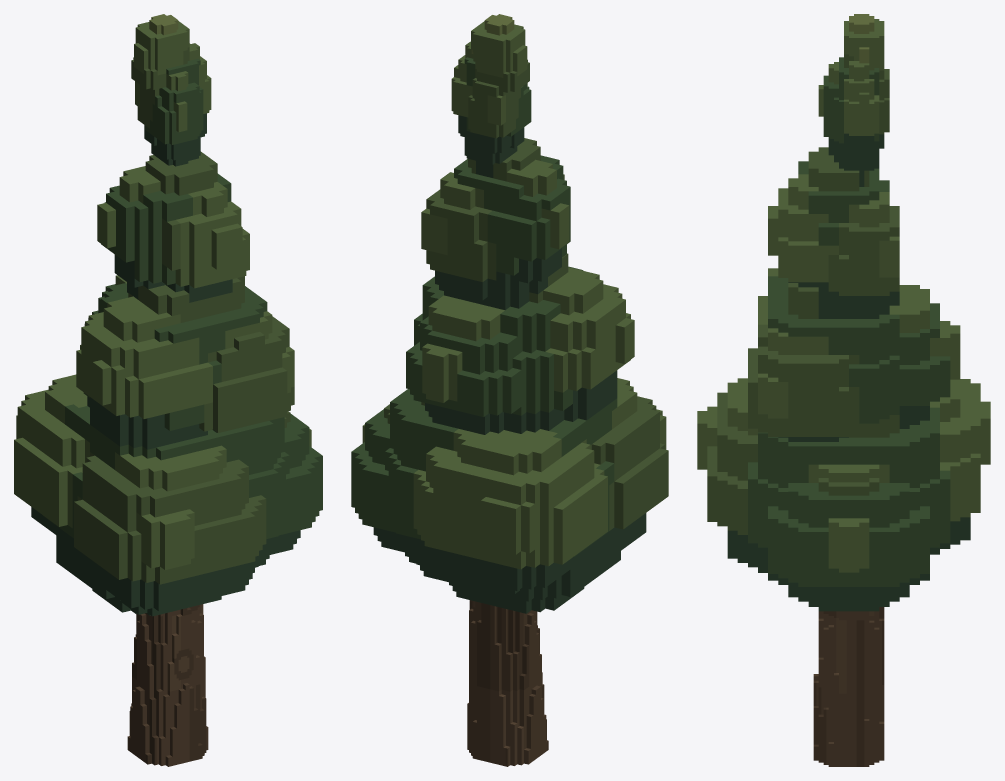
Rendered from pine_mature.glb.
3 renders of one model, left to right at view 1: azimuth 30°, elevation 25°; view 2: azimuth 150°, elevation 25°; view 3: azimuth 270°, elevation 25°, orthographic.
Visible parts, largest first — view 1: VoxelVisual; view 2: VoxelVisual; view 3: VoxelVisual.
Boxes of the visible parts, <box> form: VoxelVisual: <box>14,14,322,766</box>; VoxelVisual: <box>351,14,668,766</box>; VoxelVisual: <box>697,14,990,766</box>.
Size of what is drawn, in the model's own units: 7 by 20 by 7.25.
